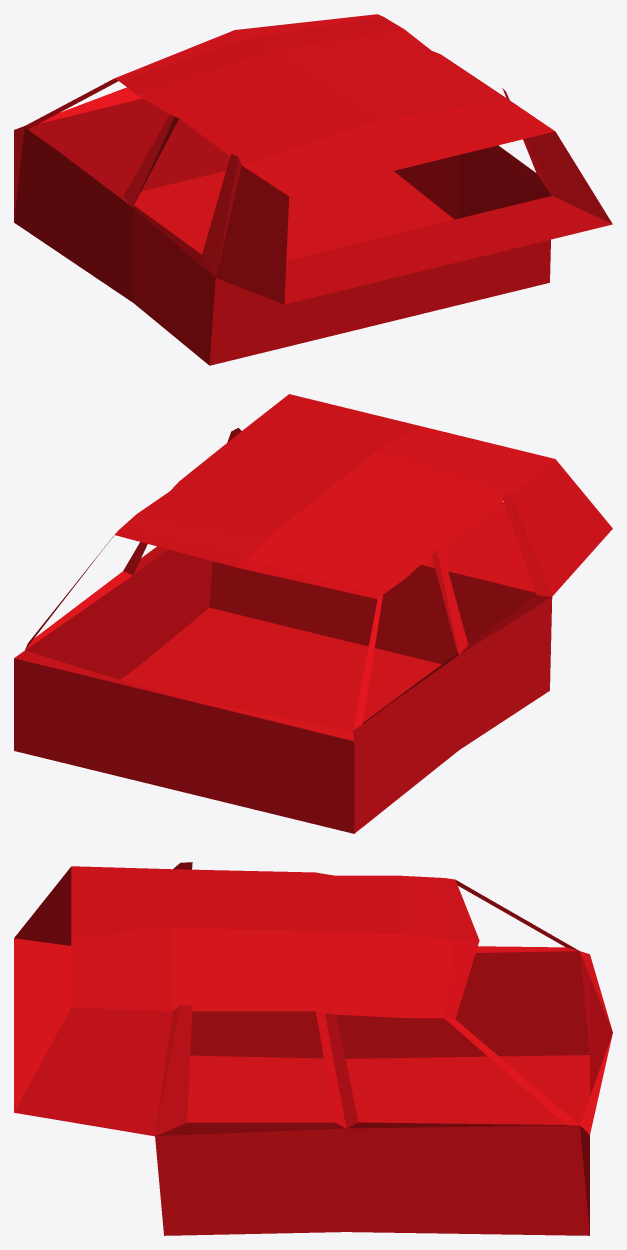
Rendered from chryslerInside.fbx.
3 renders of one model, top to bottom at view 1: azimuth 30°, elevation 25°; view 2: azimuth 150°, elevation 25°; view 3: azimuth 270°, elevation 25°, orthographic. The views are drawn at different scales.
Parts seen in each view (by area): view 1: Cube; view 2: Cube; view 3: Cube.
Boxes of the visible parts, bbox=[...] form: Cube: bbox=[14, 14, 612, 365]; Cube: bbox=[14, 394, 612, 833]; Cube: bbox=[14, 862, 612, 1235].
Size of the model in its own units: 158 by 88.76 by 221.
